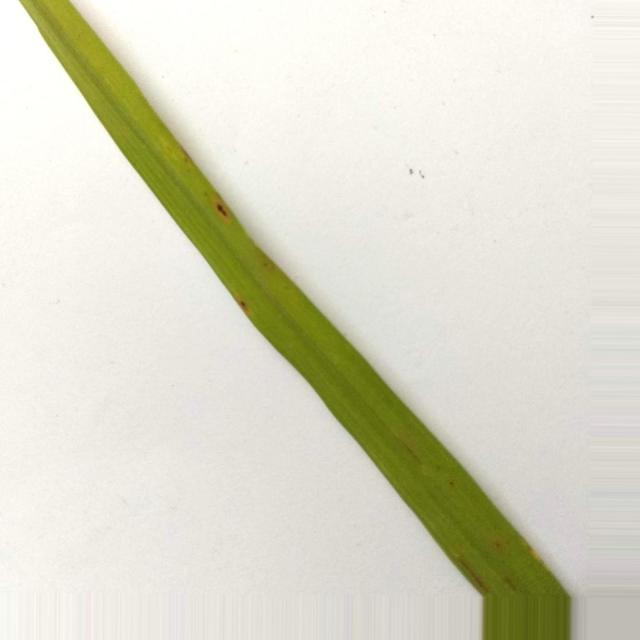Brown_Spot: (215, 202, 229, 219), (236, 299, 246, 310)
